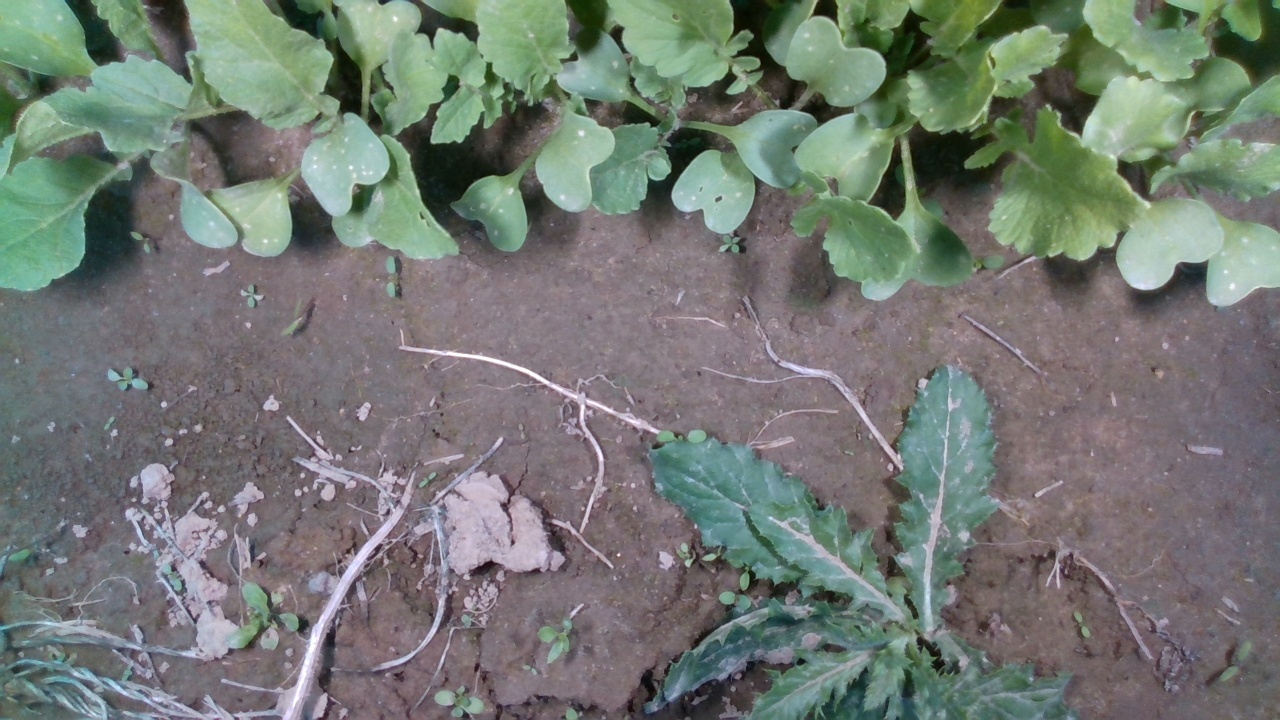weed: (534, 613, 574, 666), (433, 683, 484, 719), (1218, 639, 1252, 683), (107, 365, 149, 391), (238, 282, 266, 309), (384, 255, 397, 301), (128, 229, 150, 255), (717, 233, 744, 254), (1073, 610, 1091, 639)
